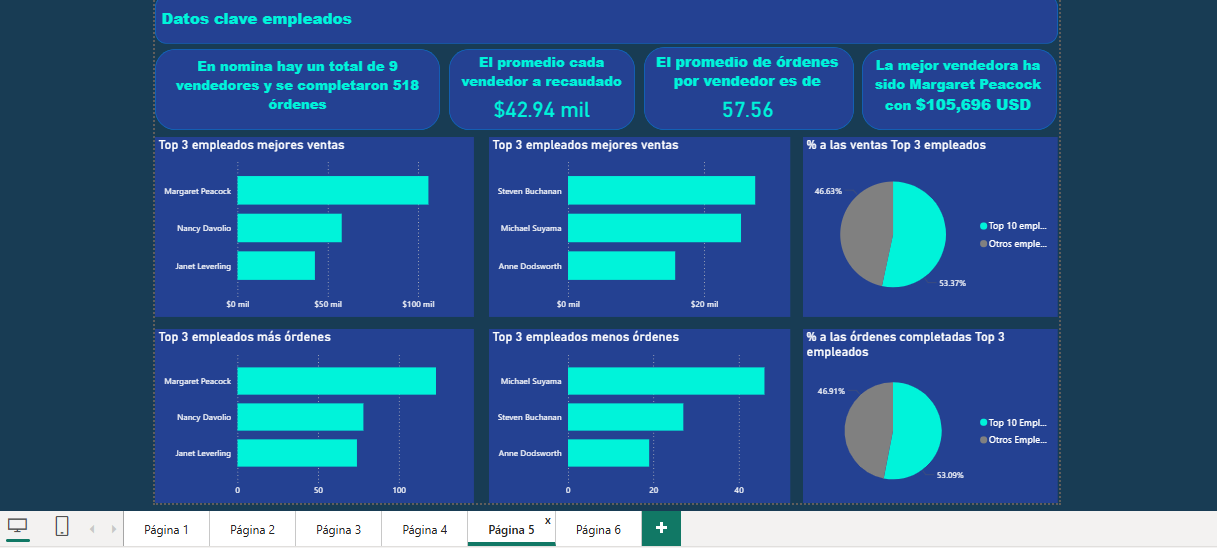

This screenshot's page, from the dashboard's own definition file:
{"tool":"powerbi","page":{"name":"Página 5","canvas":[1280,720],"ordinal":4},"visuals":[{"type":"group","id":"g1","title":"Grupo 1","box":[0,0,1279.8,69.4],"z":0},{"type":"shape","box":[0,0,1279.8,69.4],"z":0,"group":"g1"},{"type":"shape","box":[693.4,73.7,297.6,117.6],"z":0,"group":"g4"},{"type":"shape","box":[0,76.5,403.9,114.8],"z":0,"group":"g2"},{"type":"shape","box":[417,76.5,263.6,114.8],"z":0,"group":"g3"},{"type":"shape","box":[1002.5,76.6,276.4,114.8],"z":0,"group":"g5"},{"type":"textbox","box":[4.3,12.8,1269.9,45.4],"z":1000,"group":"g1"},{"type":"group","id":"g2","title":"Grupo 2","box":[0,76.5,403.9,114.8],"z":1000},{"type":"card","title":"El promedio de órdenes por vendedor es de","fields":{"Values":["Avg(Empleados.Órdenes)"]},"box":[696.1,79.7,287,106.3],"z":1000,"group":"g4"},{"type":"card","title":"El promedio cada vendedor a recaudado","fields":{"Values":["Avg(Empleados.Monto)"]},"box":[427,81.1,242.8,103.7],"z":1000,"group":"g3"},{"type":"textbox","box":[1008.9,81.5,258,104.9],"z":1000,"group":"g5"},{"type":"textbox","box":[0,82.8,403.9,96.4],"z":1000,"group":"g2"},{"type":"group","id":"g3","title":"Grupo 2","box":[417,76.5,263.6,114.8],"z":2000},{"type":"group","id":"g4","title":"Grupo 2","box":[693.4,73.7,297.6,117.6],"z":3000},{"type":"group","id":"g5","title":"Grupo 2","box":[1002.5,76.6,276.4,114.8],"z":4000},{"type":"clusteredBarChart","title":"Top 3 empleados mejores ventas","fields":{"Category":["Empleados.Empleado"],"Y":["Sum(Empleados.Monto)"]},"box":[0,201.3,452.1,255.1],"z":5000},{"type":"clusteredBarChart","title":"Top 3 empleados mejores ventas","fields":{"Category":["Empleados.Empleado"],"Y":["Sum(Empleados.Monto)"]},"box":[473.4,201.3,426.6,255.1],"z":6000},{"type":"pieChart","title":"% a las ventas Top 3 empleados","fields":{"Y":["Empleados.Top 10 empleados","Empleados.Otros empleados"]},"box":[918.4,201.3,361.4,255.1],"z":7000},{"type":"clusteredBarChart","title":"Top 3 empleados más órdenes","fields":{"Category":["Empleados.Empleado"],"Y":["Sum(Empleados.Órdenes)"]},"box":[0,473.4,452.1,246.6],"z":8000},{"type":"clusteredBarChart","title":"Top 3 empleados menos órdenes","fields":{"Category":["Empleados.Empleado"],"Y":["Sum(Empleados.Órdenes)"]},"box":[473.4,473.4,426.6,246.6],"z":9000},{"type":"pieChart","title":"% a las órdenes completadas Top 3 empleados","fields":{"Y":["Empleados.Top 10 Empleadoss","Empleados.Otros Empleadoss"]},"box":[918.4,473.4,361.4,246.6],"z":10000}]}

Visuals, with their boxes on the page's 1280x720 design canvas (x1, y1, x2, y2). These are canvas units, not pixel positions in the 1217x548 screenshot, which may show the page scaled, cropped or inside an application window:
"Grupo 1" group: 0 0 1280 69
shape: 0 0 1280 69
shape: 693 74 991 191
shape: 0 76 404 191
shape: 417 76 681 191
shape: 1002 77 1279 191
textbox: 4 13 1274 58
"Grupo 2" group: 0 76 404 191
"El promedio de órdenes por vendedor es de" card: 696 80 983 186
"El promedio cada vendedor a recaudado" card: 427 81 670 185
textbox: 1009 82 1267 186
textbox: 0 83 404 179
"Grupo 2" group: 417 76 681 191
"Grupo 2" group: 693 74 991 191
"Grupo 2" group: 1002 77 1279 191
"Top 3 empleados mejores ventas" clusteredBarChart: 0 201 452 456
"Top 3 empleados mejores ventas" clusteredBarChart: 473 201 900 456
"% a las ventas Top 3 empleados" pieChart: 918 201 1280 456
"Top 3 empleados más órdenes" clusteredBarChart: 0 473 452 720
"Top 3 empleados menos órdenes" clusteredBarChart: 473 473 900 720
"% a las órdenes completadas Top 3 empleados" pieChart: 918 473 1280 720
